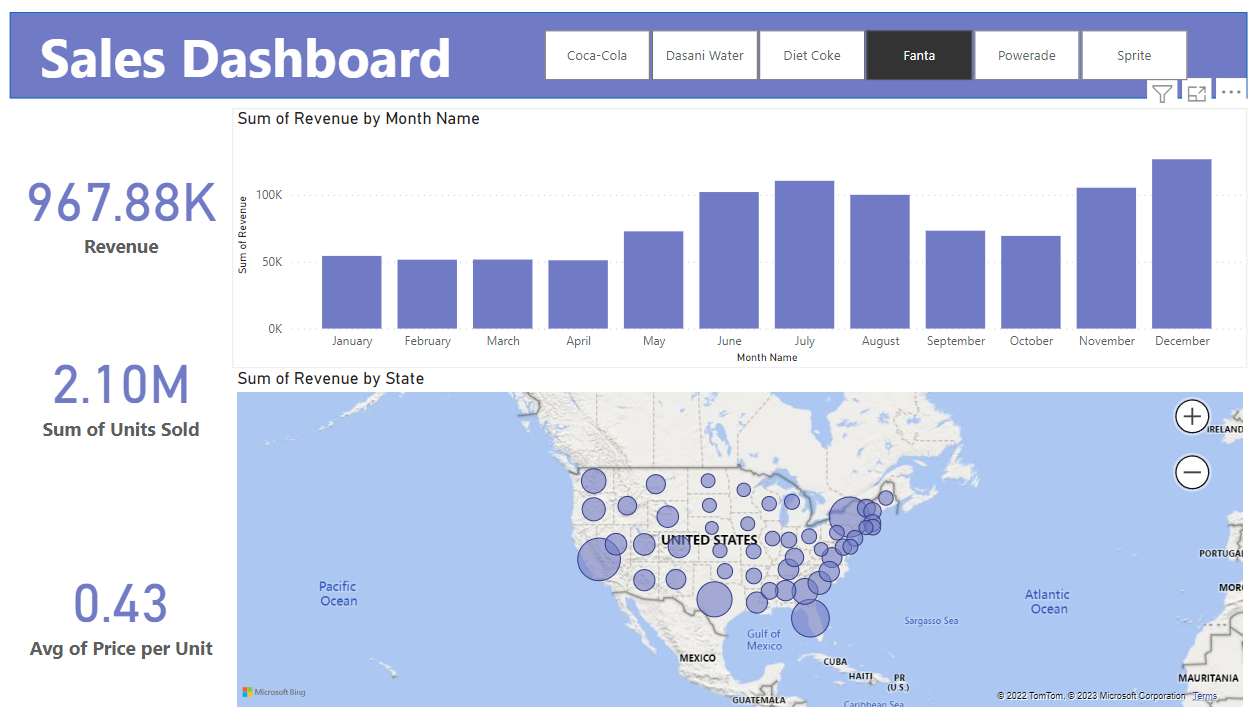

This screenshot's page, from the dashboard's own definition file:
{"tool":"powerbi","page":{"name":"Page 1","canvas":[1280,720],"ordinal":0},"visuals":[{"type":"shape","box":[28.8,20,1237.5,86.2],"z":0},{"type":"card","fields":{"Values":["Avg(Data.Price per Unit)"]},"box":[28.8,525,222.5,182.5],"z":5},{"type":"card","fields":{"Values":["Sum(Data.Revenue)"]},"box":[28.8,123.8,222.5,182.5],"z":6},{"type":"card","fields":{"Values":["Sum(Data.Units Sold)"]},"box":[28.8,306.2,222.5,182.5],"z":7},{"type":"columnChart","fields":{"Y":["Sum(Data.Revenue)"],"Category":["Data.Month Name"]},"box":[251.2,116.2,1015,260],"z":8},{"type":"map","fields":{"Category":["Data.State"],"Size":["Sum(Data.Revenue)"]},"box":[251.2,376.2,1015,343.8],"z":9},{"type":"slicer","fields":{"Values":["Data.Beverage Brand"]},"box":[537.5,31.2,692.5,63.8],"z":10}]}

Visuals, with their boxes in screenshot pixels (x1, y1, x2, y2), scaled from the page's 1280x720 canvas onto the 1257x710 screenshot:
shape: [x1=28, y1=20, x2=1244, y2=105]
card - Avg(Data.Price per Unit): [x1=28, y1=518, x2=247, y2=698]
card - Sum(Data.Revenue): [x1=28, y1=122, x2=247, y2=302]
card - Sum(Data.Units Sold): [x1=28, y1=302, x2=247, y2=482]
columnChart - Sum(Data.Revenue) x Data.Month Name: [x1=247, y1=115, x2=1243, y2=371]
map - Data.State x Sum(Data.Revenue): [x1=247, y1=371, x2=1243, y2=709]
slicer - Data.Beverage Brand: [x1=528, y1=31, x2=1208, y2=94]
